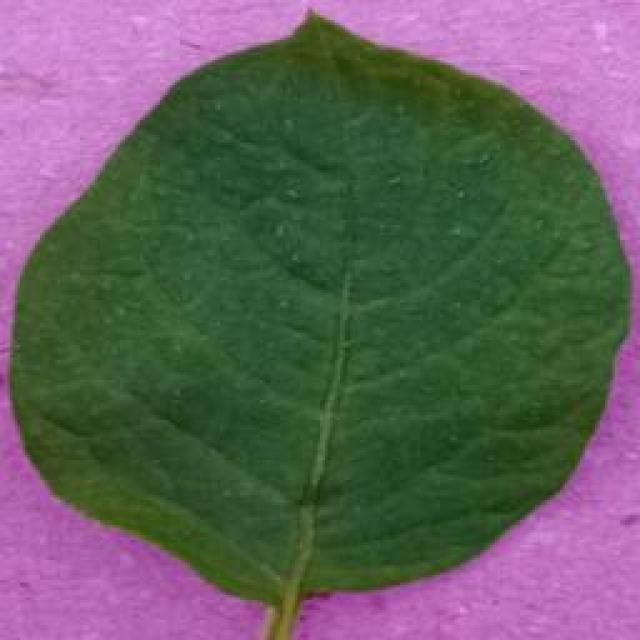Potato_Healthy: (10, 6, 624, 630)
